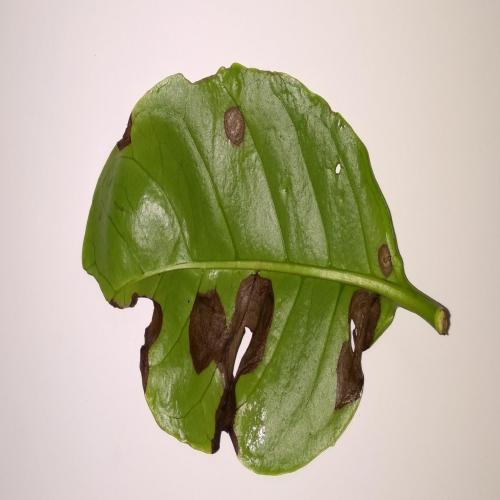miner: (224, 107, 245, 147)
